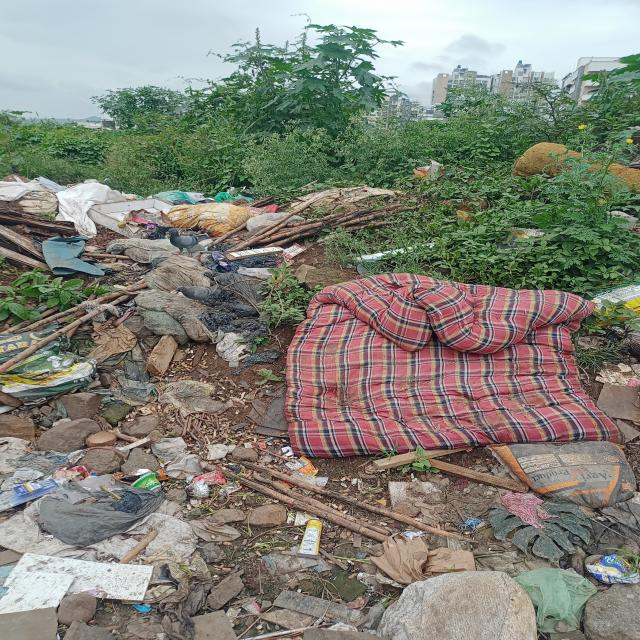garbage: (306, 260, 640, 570), (6, 177, 381, 343), (2, 418, 235, 637)
